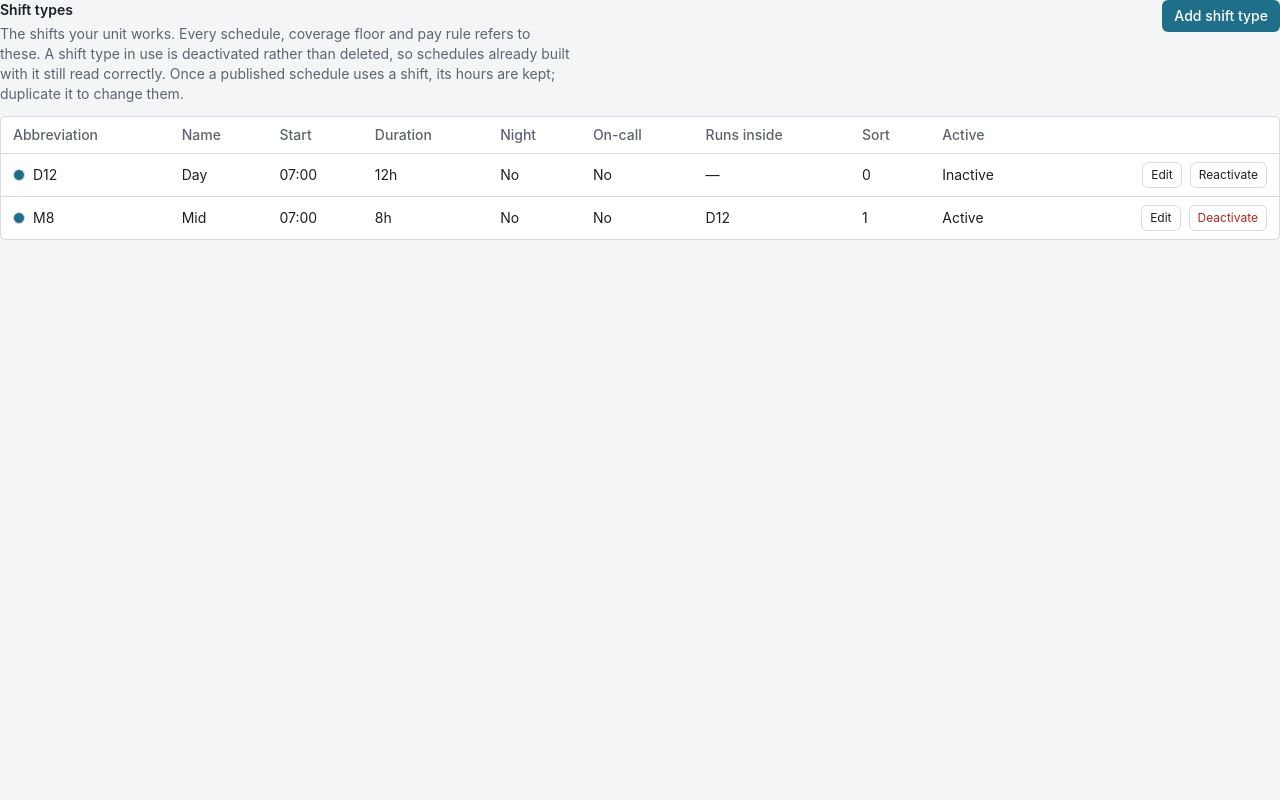
Settings › Shift types › shows the inactive shift a mid shift runs inside
Step 1. Click the button "Edit" in the row of "M8" → (1161, 218), box [1141,205,1181,231]
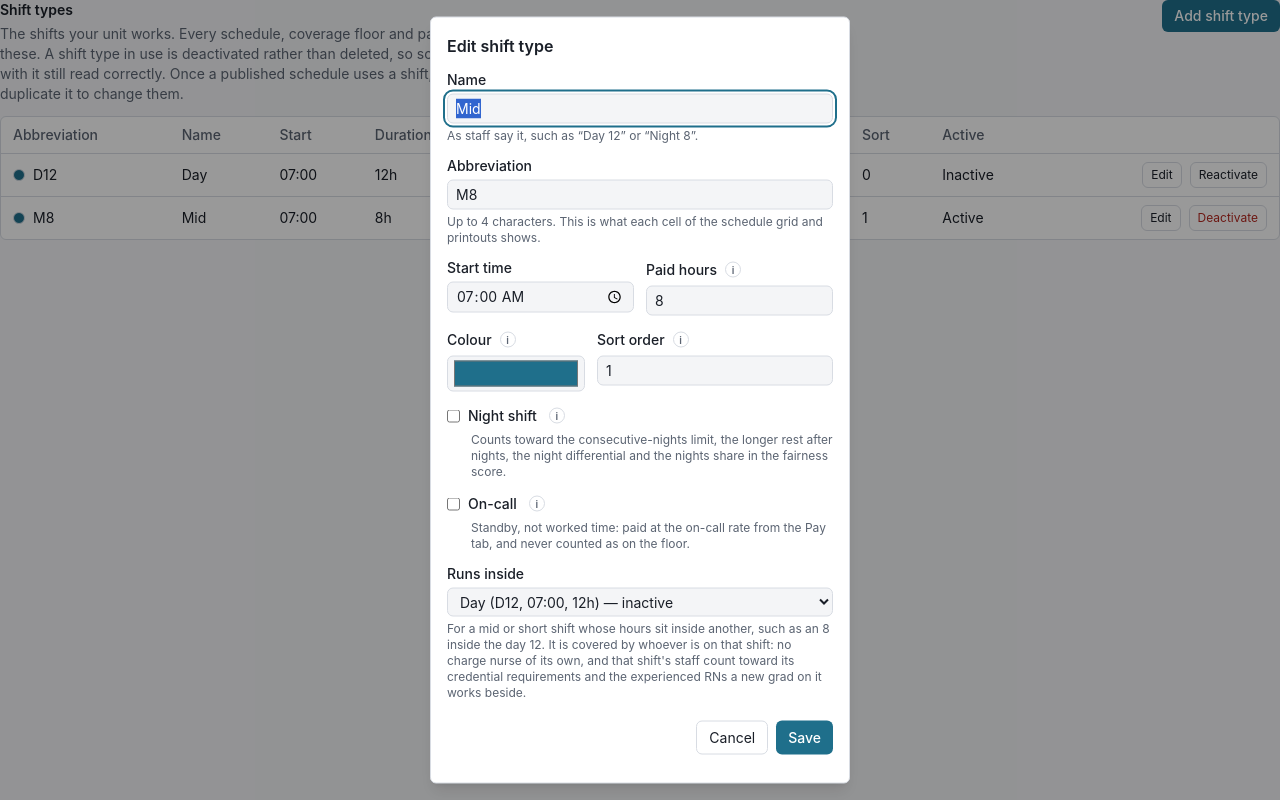
Expected: the dropdown labelled "Runs inside" shows "Day (D12, 07:00, 12h) — inactive", [447,588,833,616]
